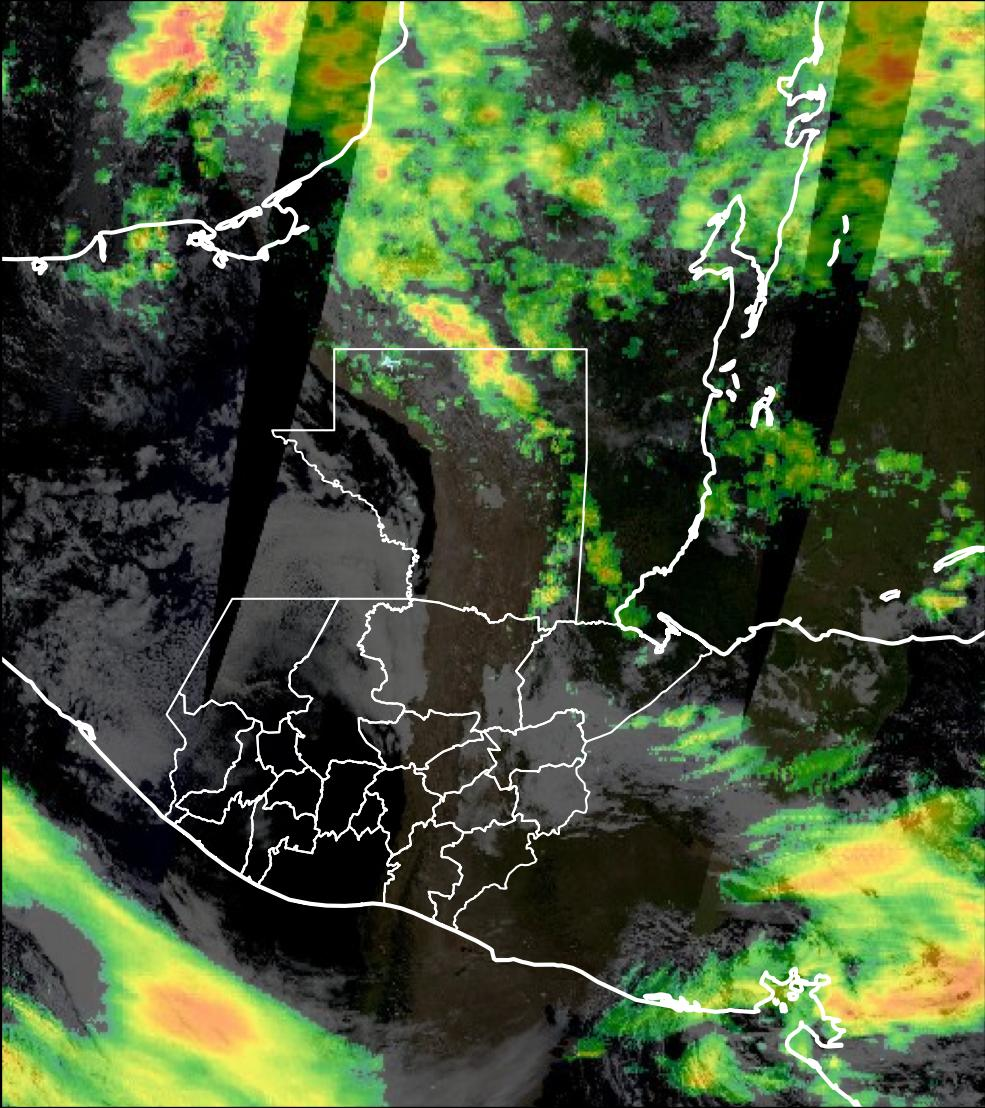precipitacion: (818, 934, 985, 1034), (123, 955, 268, 1068), (109, 1, 233, 97), (853, 37, 950, 109)
